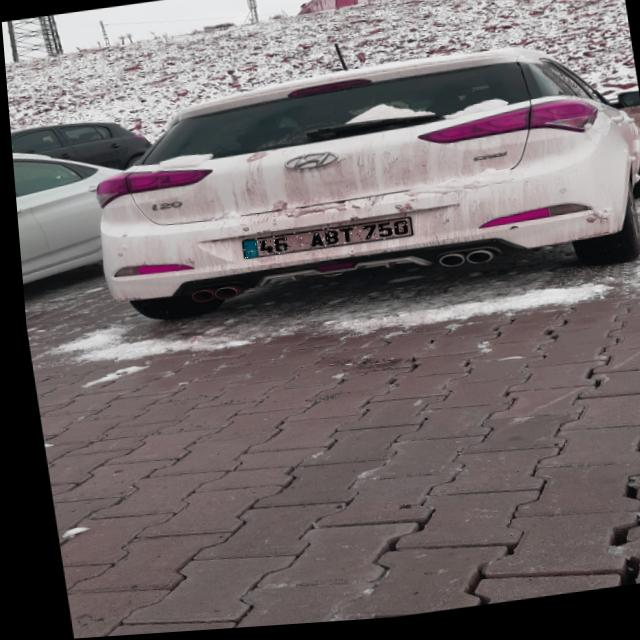license_plate: (236, 221, 409, 261)
